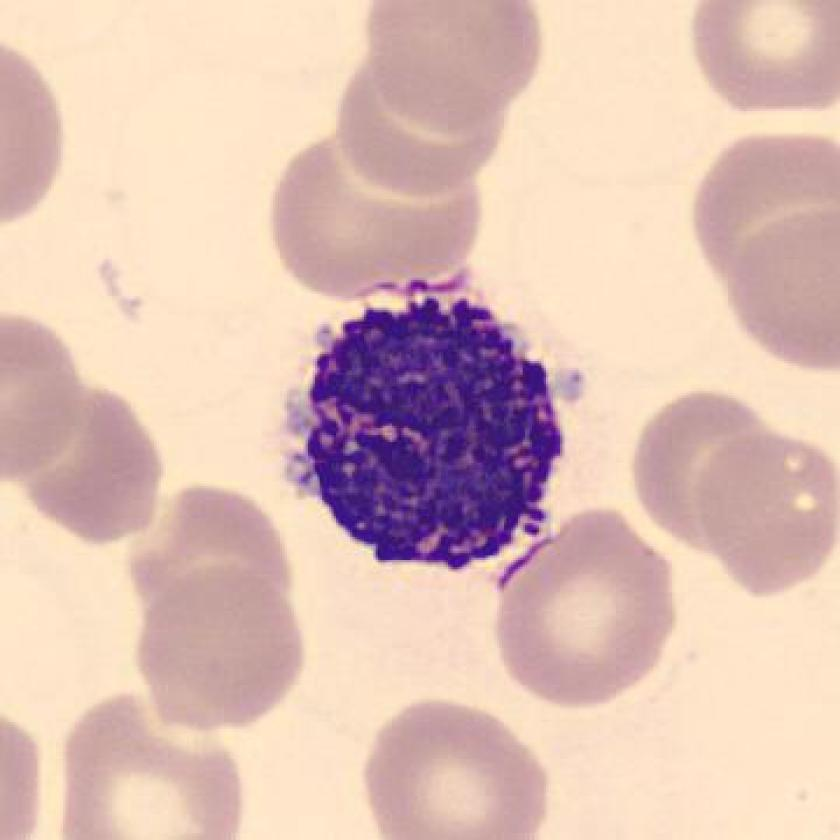basophil: (279, 286, 580, 575)
